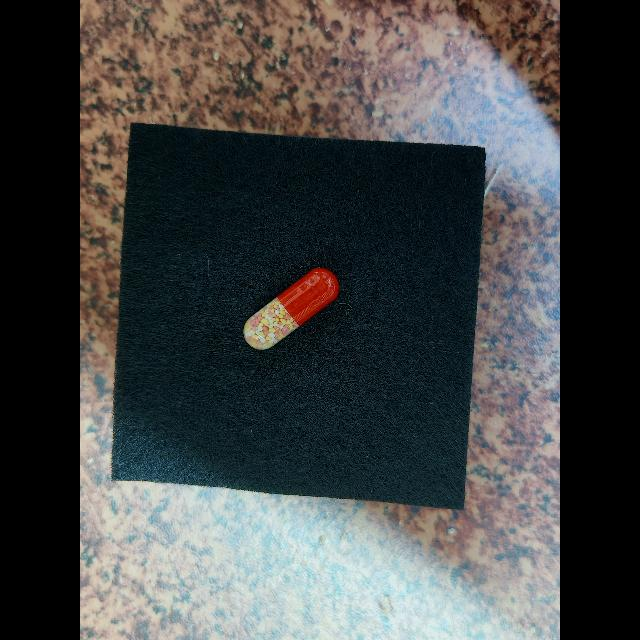Intact Capsule: (243, 268, 339, 350)
